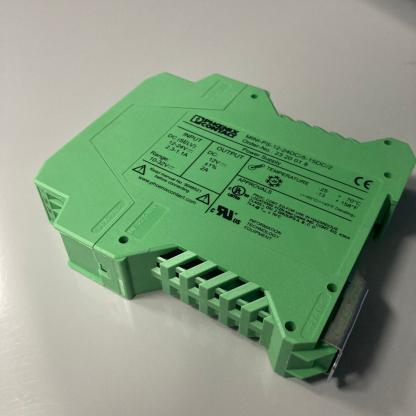SP0000011: (26, 48, 416, 408)
